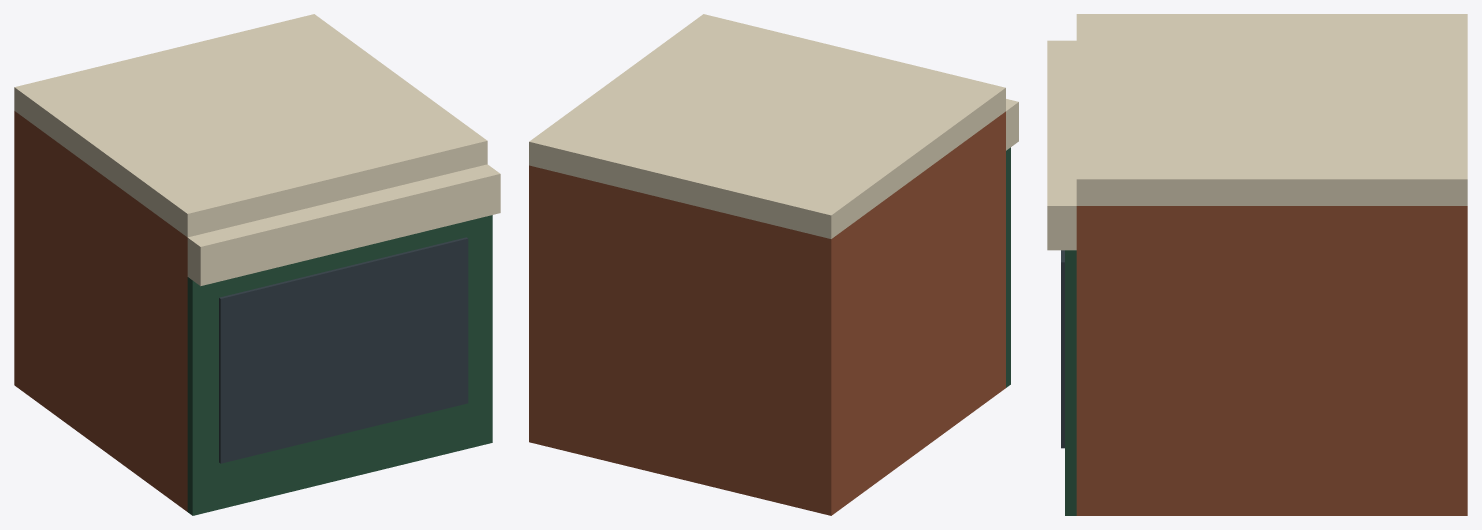
The model's file is arcade-front.glb.
3 renders of one model, left to right at view 1: azimuth 30°, elevation 25°; view 2: azimuth 150°, elevation 25°; view 3: azimuth 270°, elevation 25°, orthographic. The views are drawn at different scales.
Visible parts, largest first — view 1: arcade-front; view 2: arcade-front; view 3: arcade-front.
Boxes of the visible parts, x1=… form: arcade-front: x1=14, y1=14, x2=500, y2=515; arcade-front: x1=529, y1=14, x2=1018, y2=515; arcade-front: x1=1047, y1=14, x2=1467, y2=515.
Bounding box in the file's own units: 4 × 3.8 × 4.3.
